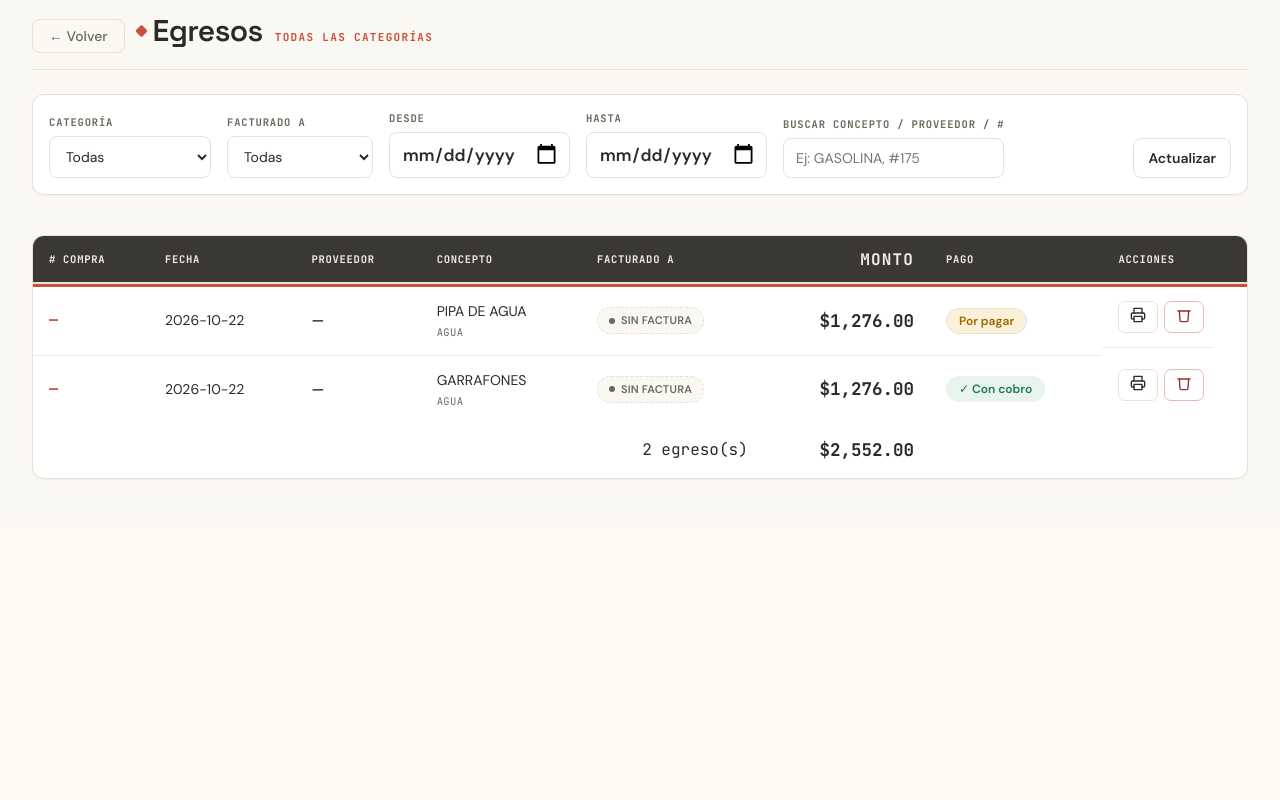
Egresos: ¿con qué se pagó? › 🔴 «Por pagar» pregunta antes de marcar; «Pago normal» manda sin cobro
What coordinates should you click on to do the following:
click the button "Por pagar"
I would click on:
 (987, 321)
Its box is [946,308,1027,334].
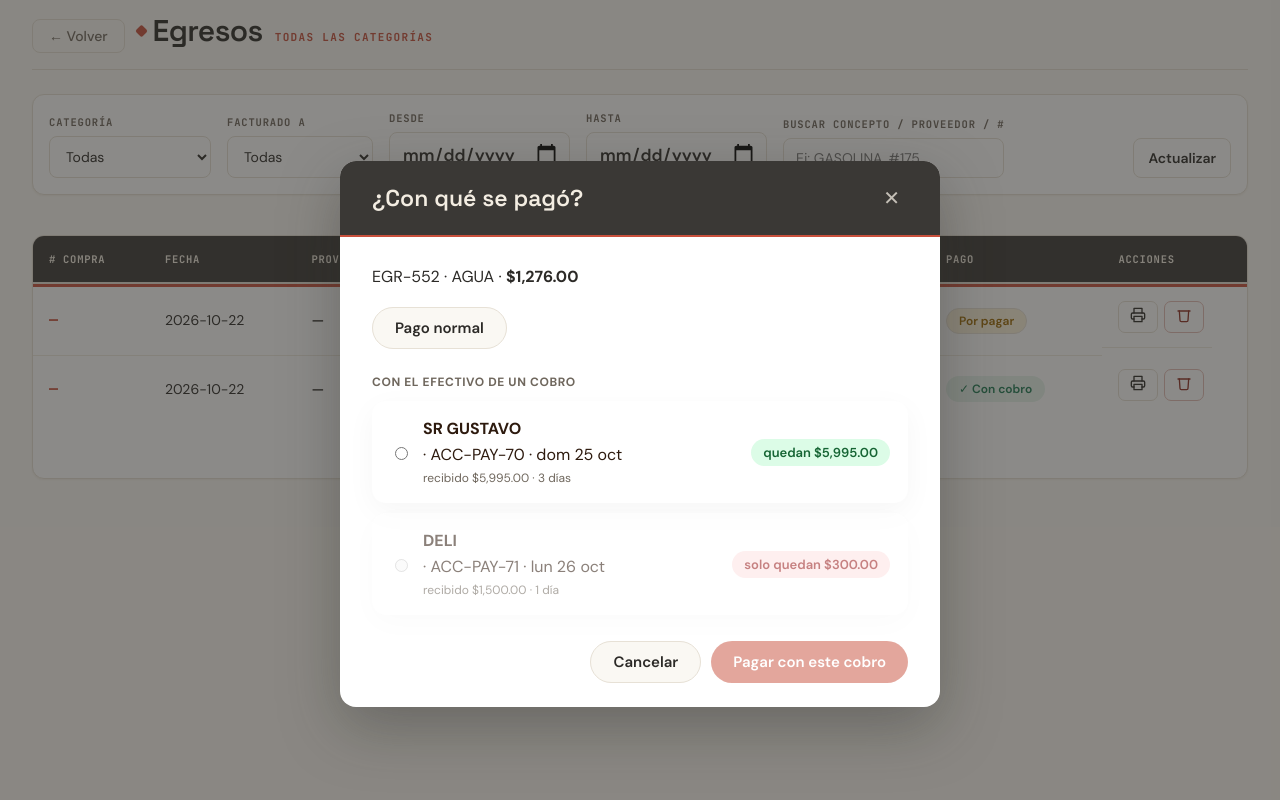
Expected: the dialog "¿Con qué se pagó?" is shown, [340,161,940,707]
What coordinates should you click on to do the following:
click the button "Pago normal"
I would click on:
 (439, 328)
Its box is [372,307,507,349].
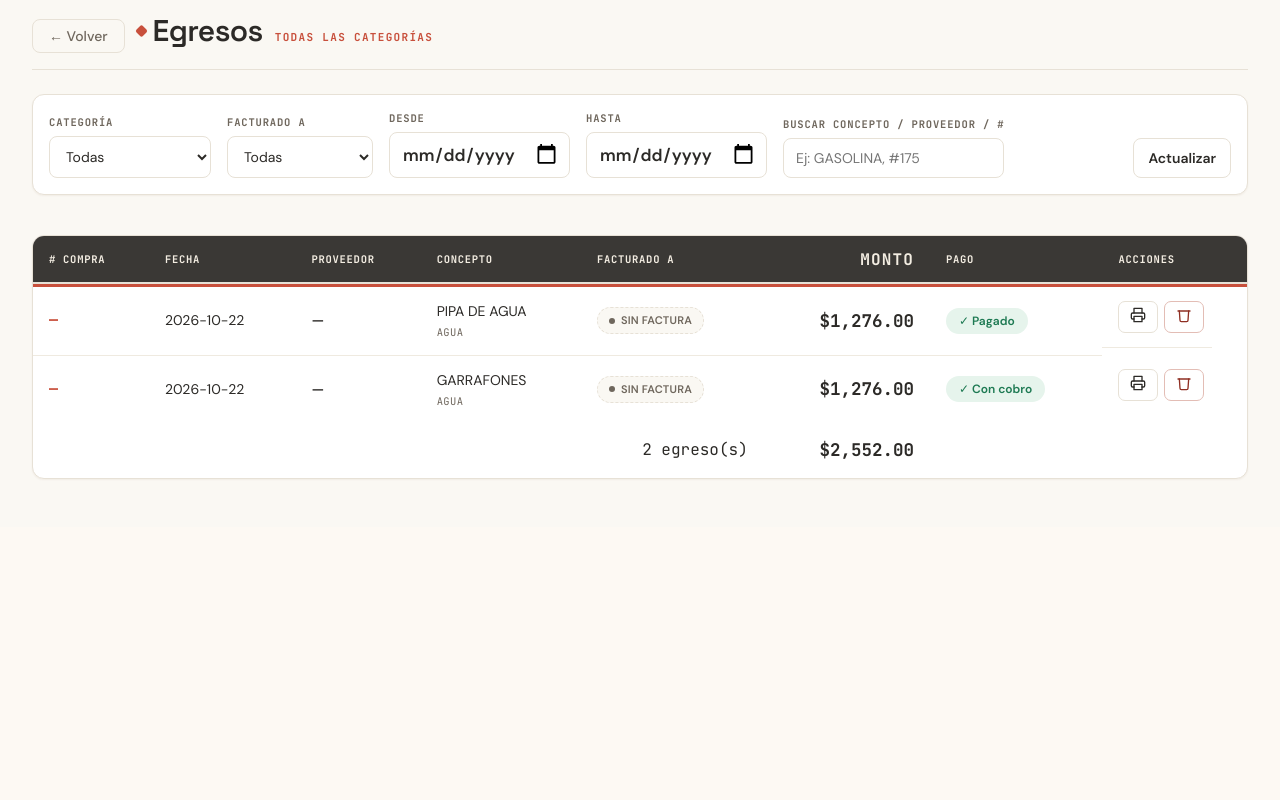
Expected: the button "✓ Pagado" is shown, [946,308,1028,334]
